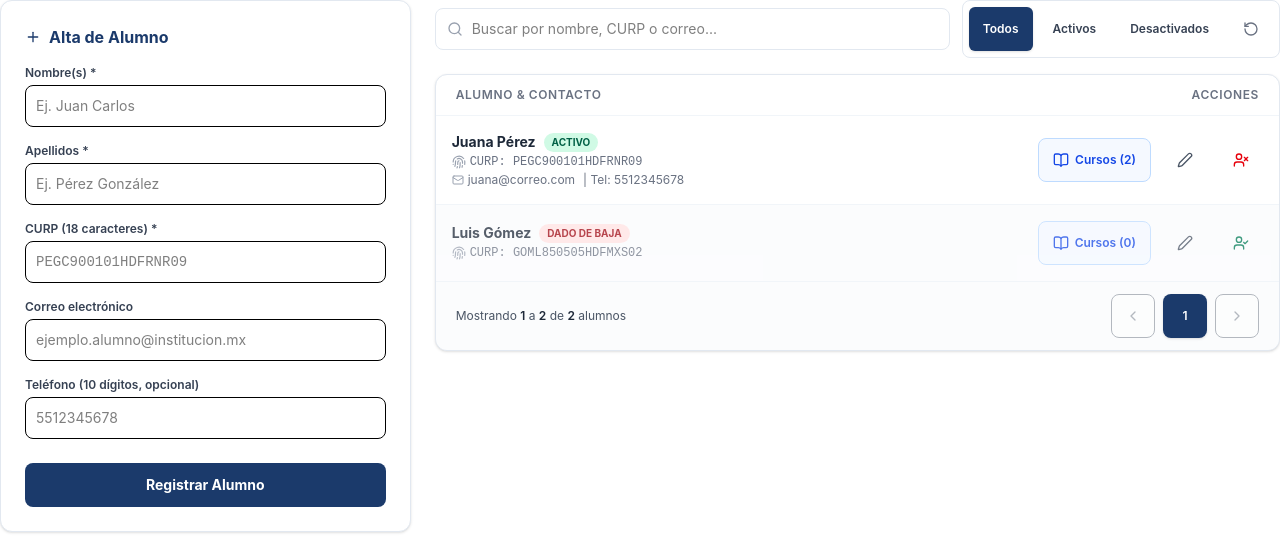
Test: ModuloAlumnos › formulario: editar alumno › el botón "Cancelar" limpia el formulario y sale del modo edición
Click the button named "editar expediente de juana pérez" at (1185,160), box top-left (1163, 138), bottom-right (1207, 182)
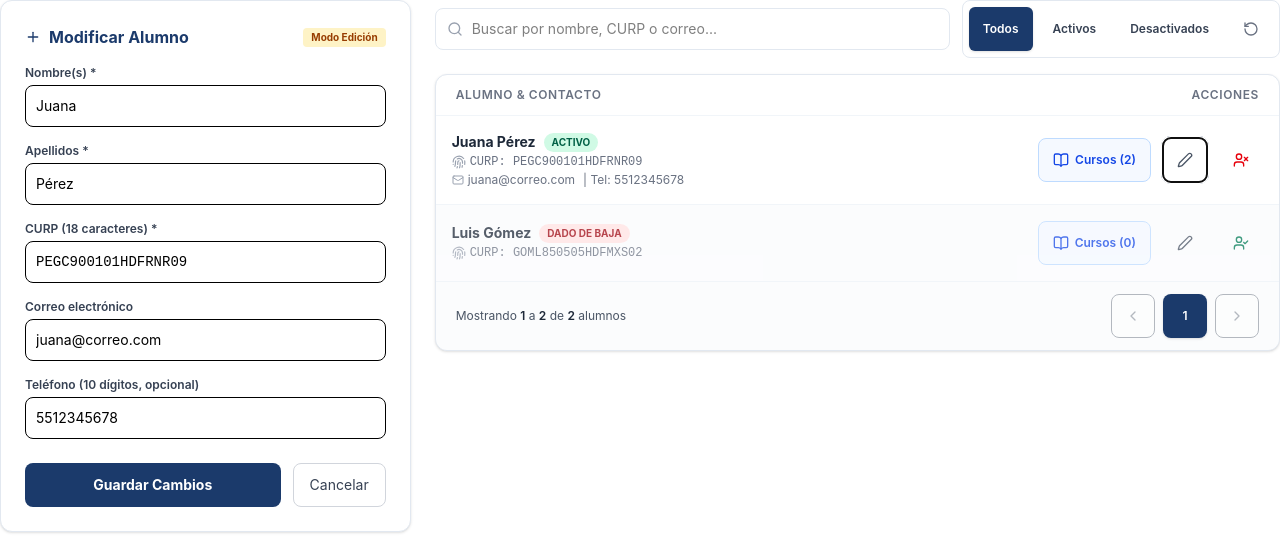
Click the button "Cancelar" at (339,485), box top-left (293, 463), bottom-right (386, 507)
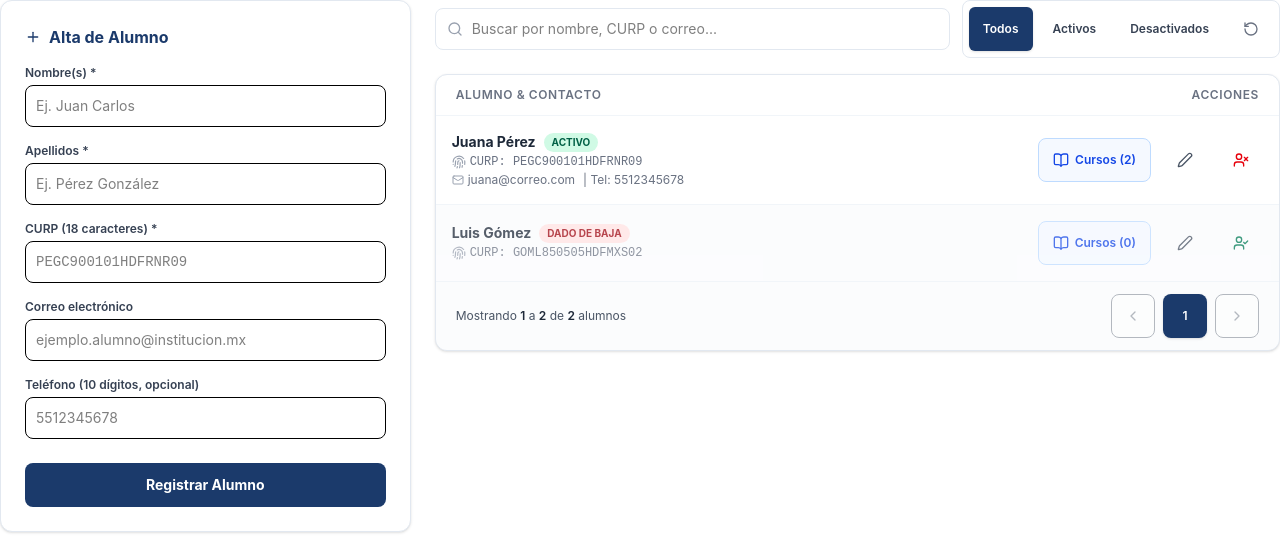
Result: the heading "Alta de Alumno" is shown at top-left (25, 25), bottom-right (169, 49)
Result: the field labelled "Nombre(s) *" is empty at top-left (25, 85), bottom-right (386, 127)
